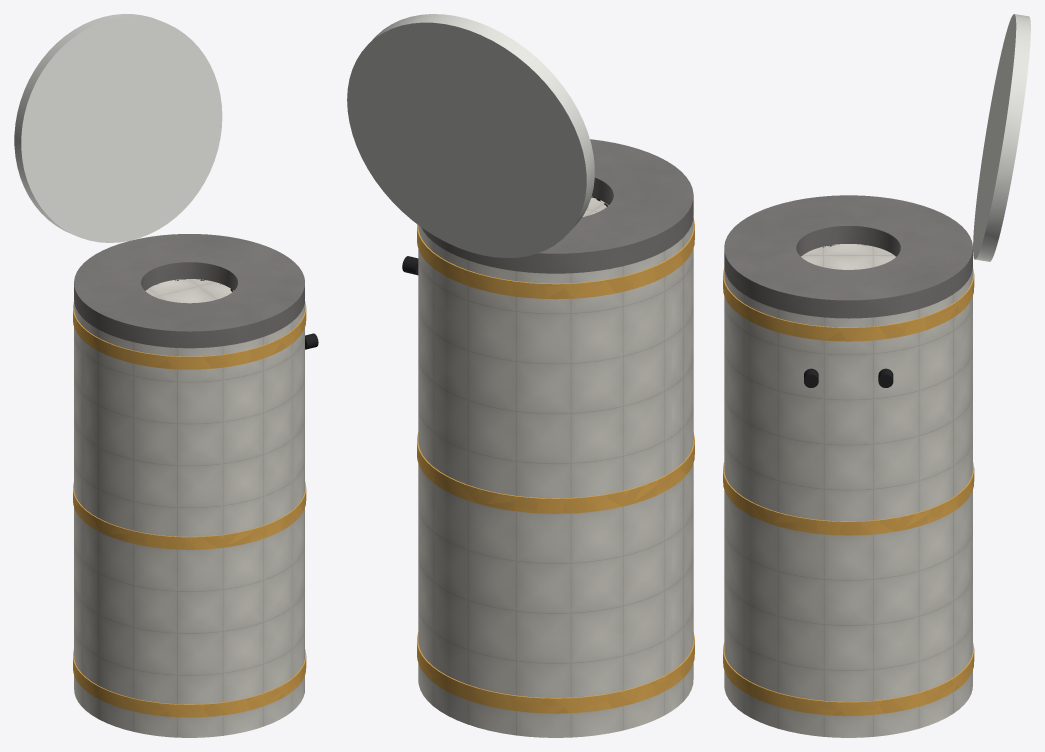
The model's file is sci05_survey_telescope_s_door_open.glb.
The picture shows the model from 3 angles, left to right: view 1: azimuth 30°, elevation 25°; view 2: azimuth 150°, elevation 25°; view 3: azimuth 270°, elevation 25°; orthographic projection. The views are drawn at different scales.
Visible parts, largest first — view 1: tube, door, baffle, tube_bands; view 2: tube, door, tube_bands, baffle; view 3: tube, baffle, tube_bands, door, star_trackers.
Boxes of the visible parts, x1,y1,x2,y2 form: tube: (74,279,304,737); door: (14,14,222,242); baffle: (74,234,304,348); tube_bands: (73,301,306,717); tube: (418,196,693,737); door: (347,14,594,257); tube_bands: (417,218,694,713); baffle: (421,139,693,273); tube: (724,244,972,737); baffle: (724,195,972,318); tube_bands: (723,268,974,715); door: (973,14,1030,261); star_trackers: (804,368,893,387).
Bounding box in the file's own units: 1.31 × 3.66 × 1.55.
Materials: 7 (3 with a texture image).
